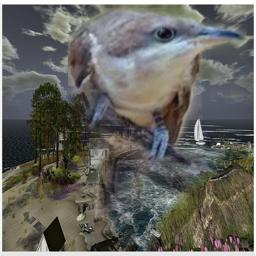Cuckoo: (68, 8, 247, 252)
